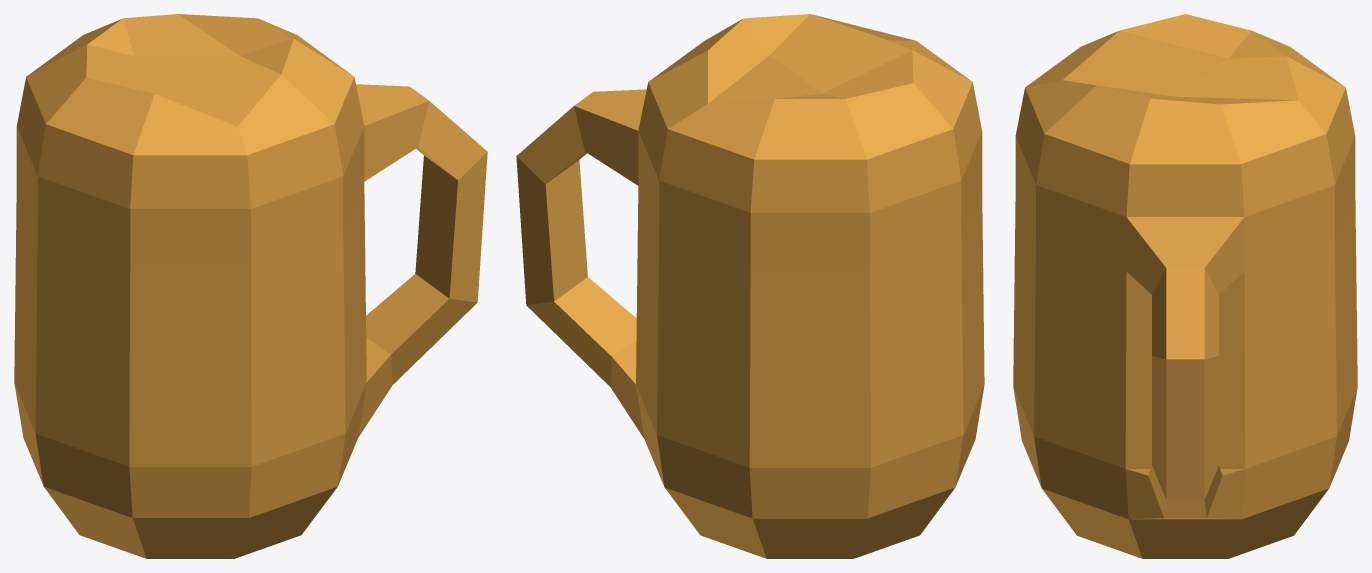
File: beer.fbx
The picture shows the model from 3 angles, left to right: view 1: azimuth 30°, elevation 25°; view 2: azimuth 150°, elevation 25°; view 3: azimuth 270°, elevation 25°; orthographic projection. The views are drawn at different scales.
Visible parts, largest first — view 1: beer; view 2: beer; view 3: beer.
Part boxes in pixels (bbox=[...]): beer: bbox=[14, 14, 487, 558]; beer: bbox=[516, 14, 984, 558]; beer: bbox=[1013, 14, 1357, 558].
Bounding box in the file's own units: 0.2388 × 0.2382 × 0.1648.
